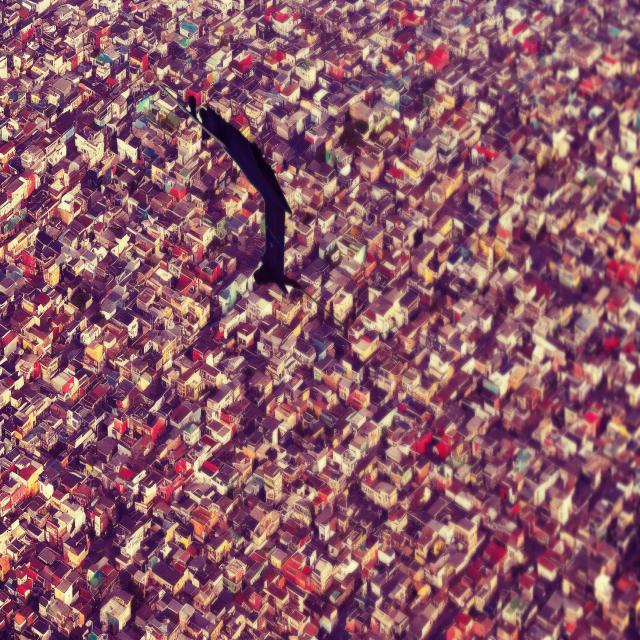airplane: (159, 84, 346, 326)
